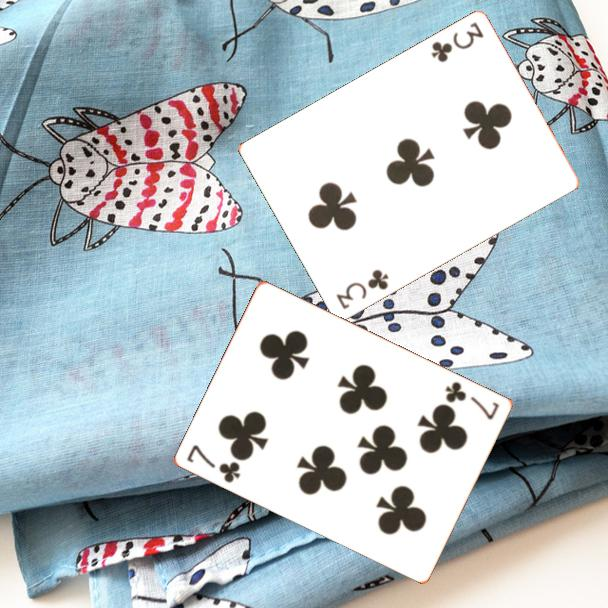c03: (427, 19, 487, 66), (332, 266, 391, 313)
c07: (441, 378, 502, 423), (183, 441, 244, 486)
